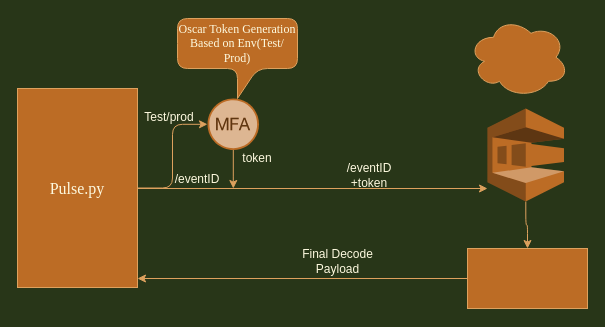
The diagram is 605 pixels wide and 327 high, and some of its shapes have lost their labels. Here are the shapes that lost their labels. From the top down, the centre of each, then its label:
At point (518, 56): "Event Managment (PULSE)".
At point (527, 278): "DECODE Message BODY from Base 64".
